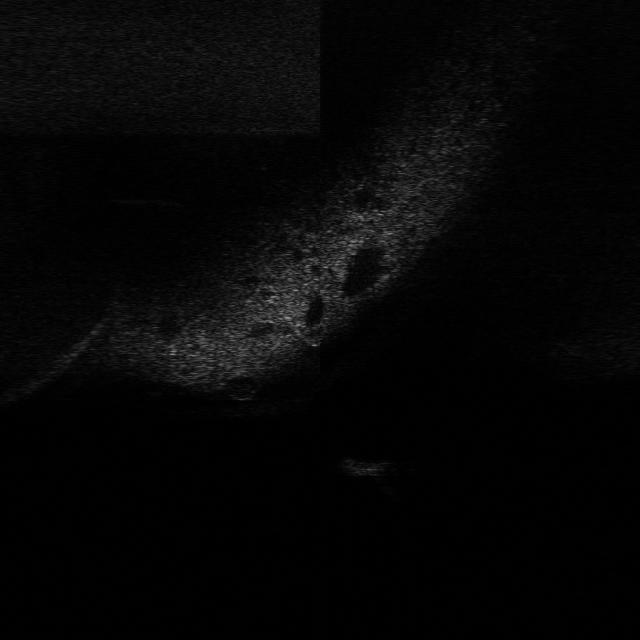ball: (302, 322, 329, 348)
cube: (338, 453, 394, 477)
